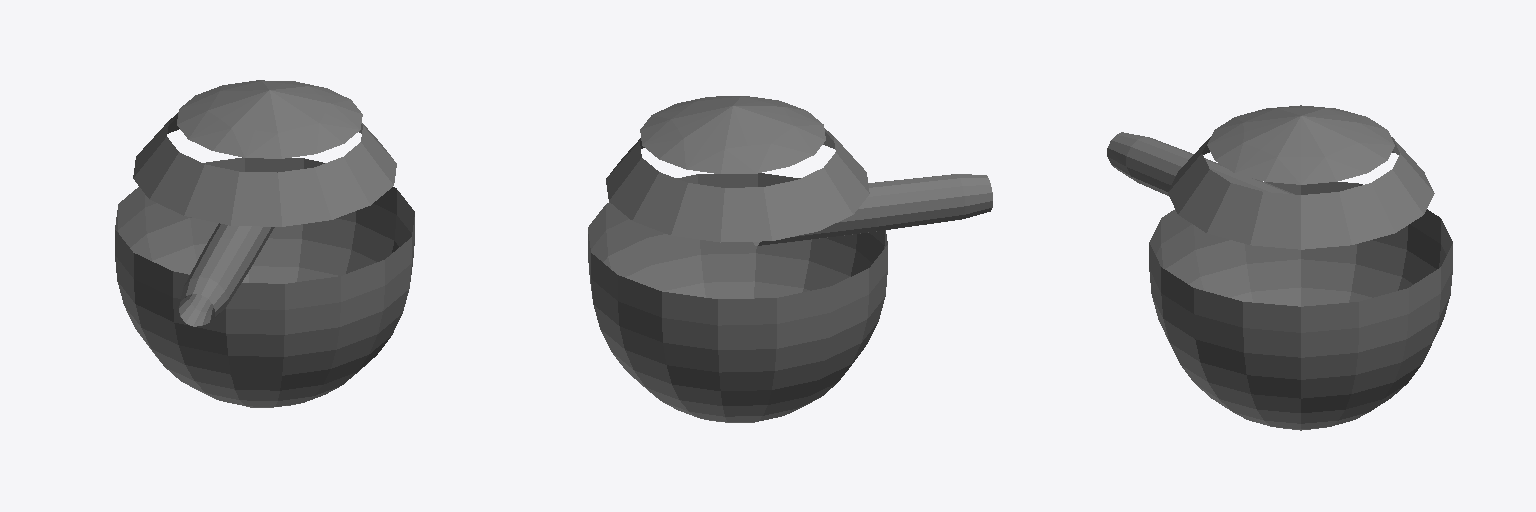
The model's file is newEnemy.obj.
3 renders of one model, left to right at view 1: azimuth 30°, elevation 25°; view 2: azimuth 150°, elevation 25°; view 3: azimuth 270°, elevation 25°, orthographic.
Visible parts, largest first — view 1: newEnemy:pSphere1, newEnemy:pSphere2, newEnemy:pPipe1; view 2: newEnemy:pSphere1, newEnemy:pSphere2, newEnemy:pPipe1; view 3: newEnemy:pSphere1, newEnemy:pSphere2, newEnemy:pPipe1.
Boxes of the visible parts, x1=… form: newEnemy:pSphere1: x1=115, y1=113, x2=414, y2=407; newEnemy:pSphere2: x1=177, y1=80, x2=362, y2=158; newEnemy:pPipe1: x1=179, y1=223, x2=274, y2=326; newEnemy:pSphere1: x1=588, y1=128, x2=887, y2=422; newEnemy:pSphere2: x1=640, y1=96, x2=825, y2=173; newEnemy:pPipe1: x1=753, y1=174, x2=992, y2=245; newEnemy:pSphere1: x1=1149, y1=137, x2=1452, y2=430; newEnemy:pSphere2: x1=1207, y1=105, x2=1394, y2=184; newEnemy:pPipe1: x1=1107, y1=132, x2=1294, y2=195.
Bounding box in the file's own units: 2.1 × 2.02 × 2.08.